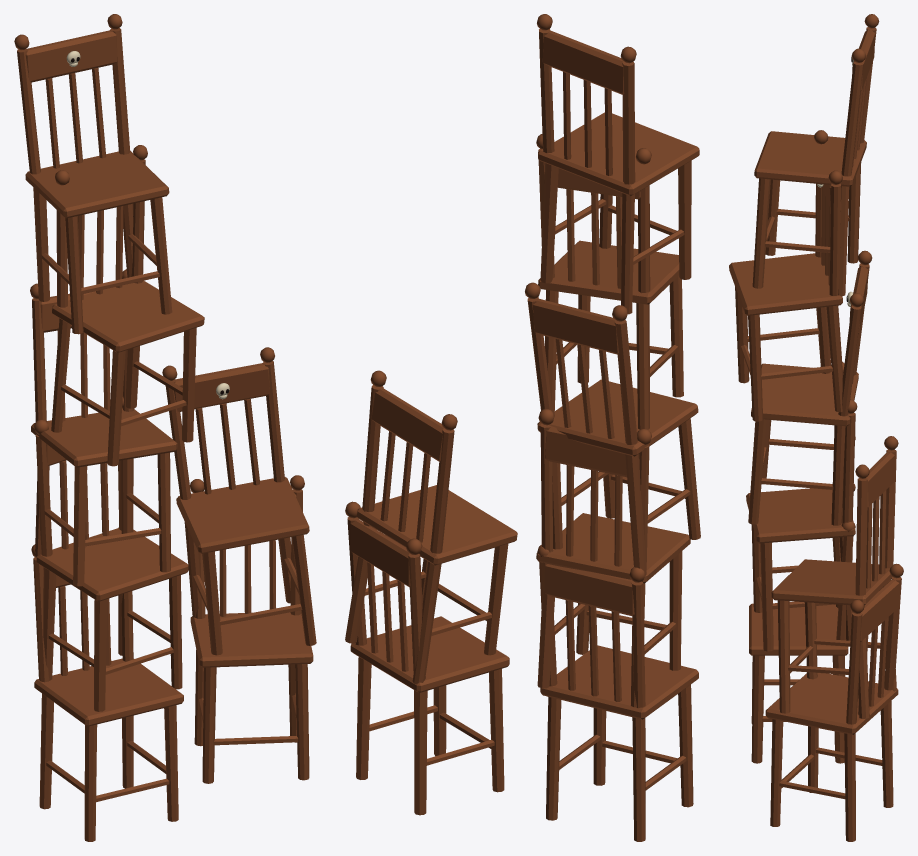
The model's file is PR_SevenChairs.fbx.
3 views of the same model, side by side, from view 1: azimuth 30°, elevation 25°; view 2: azimuth 150°, elevation 25°; view 3: azimuth 270°, elevation 25° (orthographic). The views are drawn at different scales.
Parts seen in each view (by area): view 1: Chair4_Wood, Chair6_Wood, Chair3_Wood, Chair0_Wood, Chair1_Wood, Chair2_Wood, Chair5_Wood; view 2: Chair4_Wood, Chair0_Wood, Chair6_Wood, Chair5_Wood, Chair2_Wood, Chair1_Wood, Chair3_Wood; view 3: Chair5_Wood, Chair3_Wood, Chair6_Wood, Chair4_Wood, Chair2_Wood, Chair1_Wood, Chair0_Wood.
Part boxes in pixels (box(x1,y1,x2,y2)): Chair4_Wood: box(14, 14, 172, 334); Chair6_Wood: box(162, 347, 316, 655); Chair3_Wood: box(51, 145, 204, 466); Chair0_Wood: box(31, 527, 183, 841); Chair1_Wood: box(34, 397, 188, 711); Chair2_Wood: box(30, 269, 177, 586); Chair5_Wood: box(190, 475, 313, 783); Chair4_Wood: box(537, 14, 699, 314); Chair0_Wood: box(537, 545, 698, 841); Chair6_Wood: box(345, 370, 517, 683); Chair5_Wood: box(345, 501, 509, 815); Chair2_Wood: box(525, 282, 700, 576); Chair1_Wood: box(536, 409, 690, 707); Chair3_Wood: box(536, 134, 683, 429); Chair5_Wood: box(765, 563, 903, 841); Chair3_Wood: box(729, 130, 842, 421); Chair6_Wood: box(771, 436, 898, 718); Chair4_Wood: box(752, 14, 879, 296); Chair2_Wood: box(748, 250, 872, 525); Chair1_Wood: box(746, 362, 857, 651); Chair0_Wood: box(749, 483, 855, 763).
Size of the model in its own units: 0.4646 by 1.18 by 0.264.
